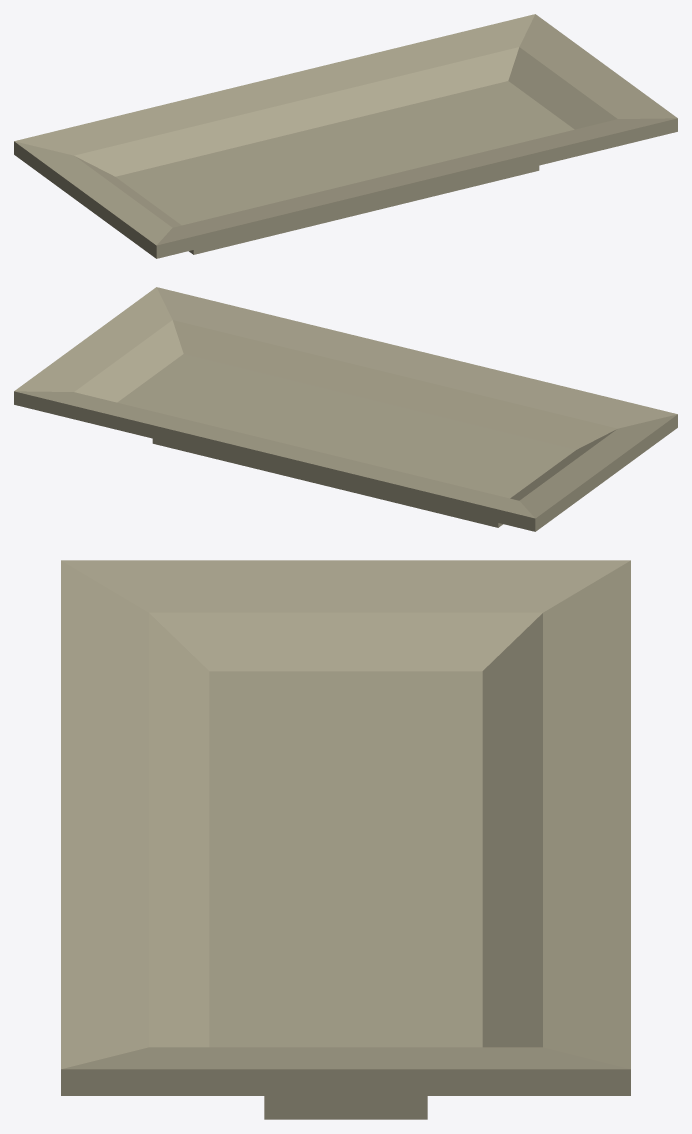
File: PS_Plate05.fbx
3 views of the same model, one above another, from view 1: azimuth 30°, elevation 25°; view 2: azimuth 150°, elevation 25°; view 3: azimuth 270°, elevation 25° (orthographic). The views are drawn at different scales.
Parts seen in each view (by area): view 1: PS_Plate05; view 2: PS_Plate05; view 3: PS_Plate05.
Part boxes in pixels (x1=…): PS_Plate05: x1=14, y1=14, x2=677, y2=258; PS_Plate05: x1=14, y1=287, x2=677, y2=531; PS_Plate05: x1=61, y1=560, x2=630, y2=1119.
Size of the model in its own units: 0.6286 by 0.0784 by 0.2975.
